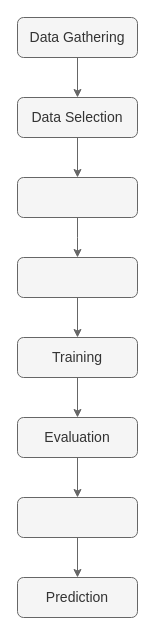
Some shapes in this 155 by 635 pixel diagram are drawn without their labels. Here are the shapes that lost their labels. From the top down, the centre of each, then its label:
At point 77,197: "Data Preperation".
At point 77,277: "Model Selection".
At point 77,517: "Parameter Tuning".
